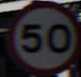Speed limit: (7, 3, 73, 65)
